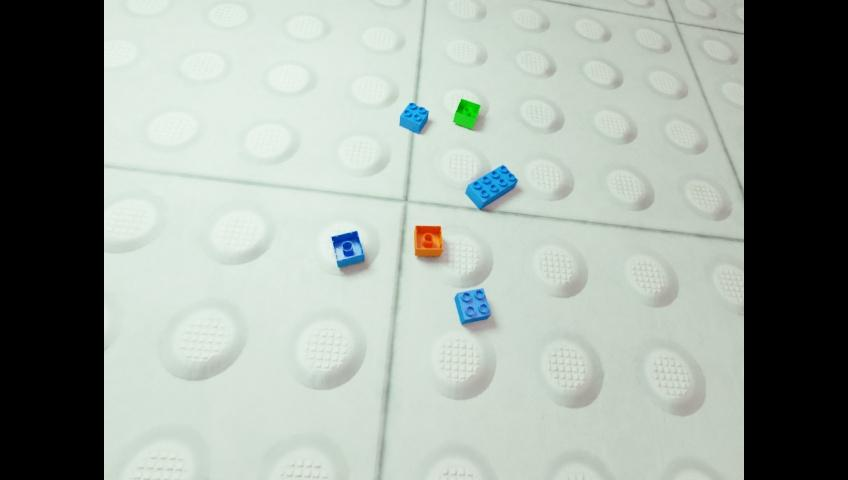2x2_blue: (454, 287, 490, 324), (330, 229, 363, 267), (399, 101, 428, 133)
2x2_green: (452, 97, 480, 128)
2x2_orange: (413, 224, 442, 255)
4x2_blue: (464, 163, 517, 209)
